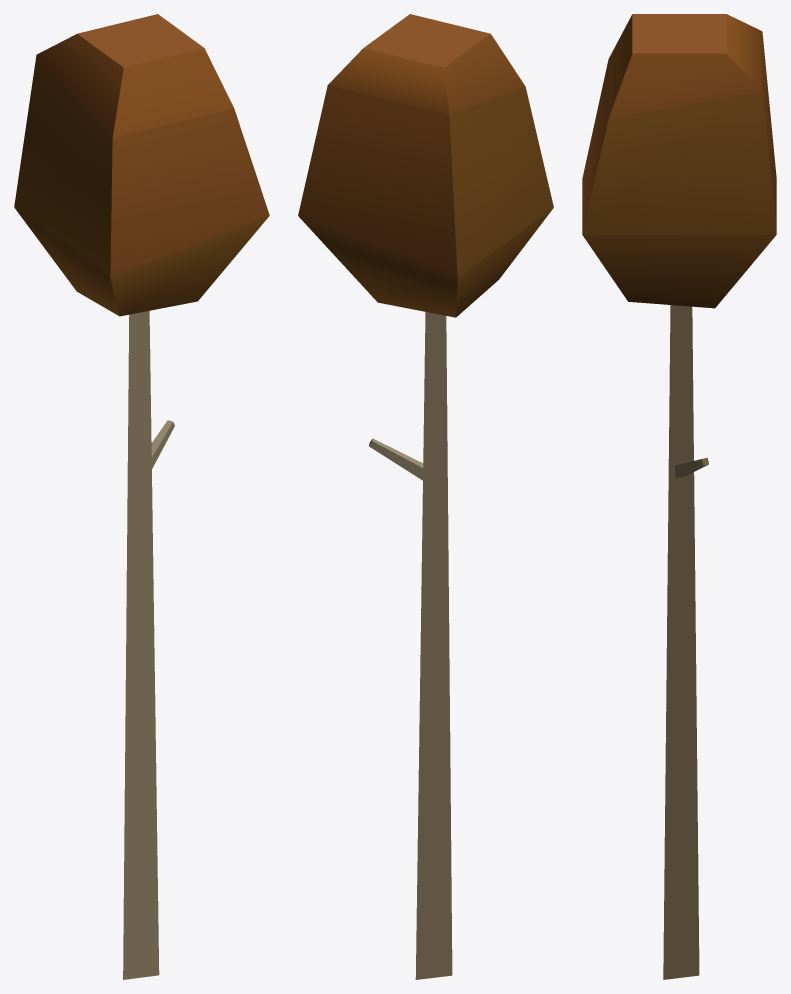
The model's file is SF_Env_Tree015.fbx.
3 renders of one model, left to right at view 1: azimuth 30°, elevation 25°; view 2: azimuth 150°, elevation 25°; view 3: azimuth 270°, elevation 25°, orthographic.
Visible parts, largest first — view 1: SF_Env_Tree_Tall_01; view 2: SF_Env_Tree_Tall_01; view 3: SF_Env_Tree_Tall_01.
Part boxes in pixels (x1,y1,x2,y2): SF_Env_Tree_Tall_01: [14, 14, 269, 979]; SF_Env_Tree_Tall_01: [298, 14, 553, 979]; SF_Env_Tree_Tall_01: [582, 14, 776, 979].
Size of the model in its own units: 2.19 by 12.2 by 2.29.
